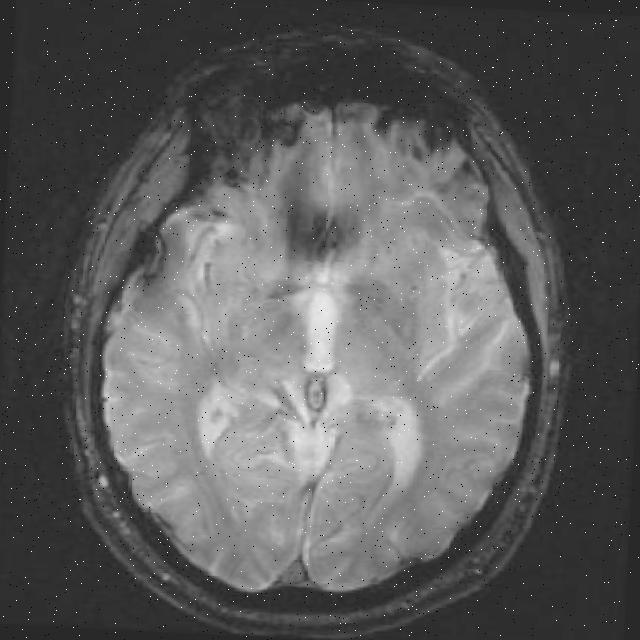EMCI: (276, 170, 365, 298), (111, 217, 183, 305)
